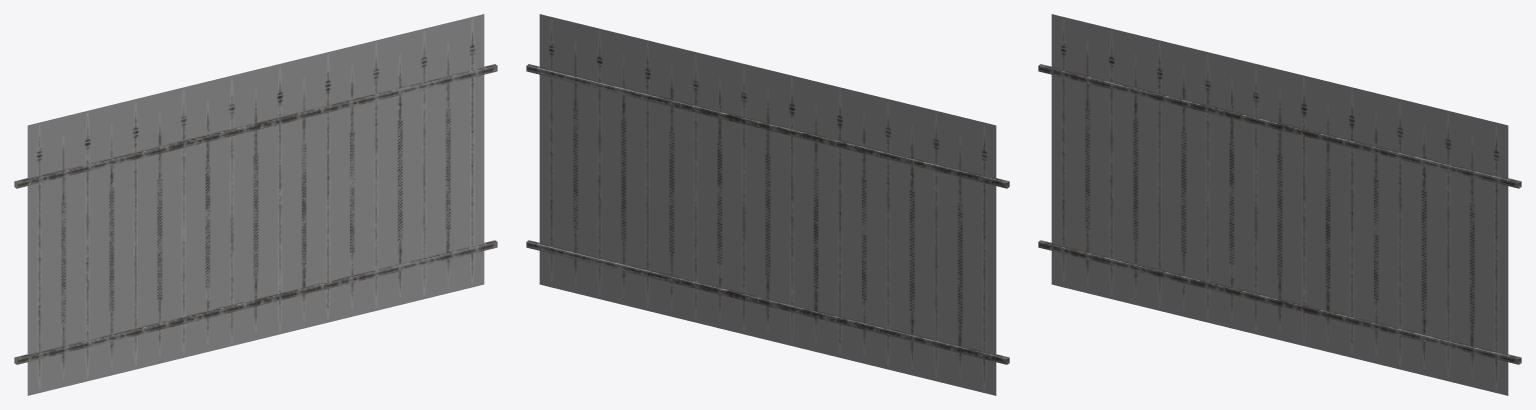
File: Metal Fence 3 LOD.fbx
3 views of the same model, side by side, from view 1: azimuth 30°, elevation 25°; view 2: azimuth 150°, elevation 25°; view 3: azimuth 330°, elevation 25° (orthographic).
Parts seen in each view (by area): view 1: Metal Fence 3 LOD; view 2: Metal Fence 3 LOD; view 3: Metal Fence 3 LOD.
Part boxes in pixels (x1,y1,x2,y2): Metal Fence 3 LOD: (14, 14, 497, 395); Metal Fence 3 LOD: (526, 14, 1009, 395); Metal Fence 3 LOD: (1038, 14, 1521, 395).
Size of the model in its own units: 400 by 215 by 3.57.
Materials: 1 (1 with a texture image).
